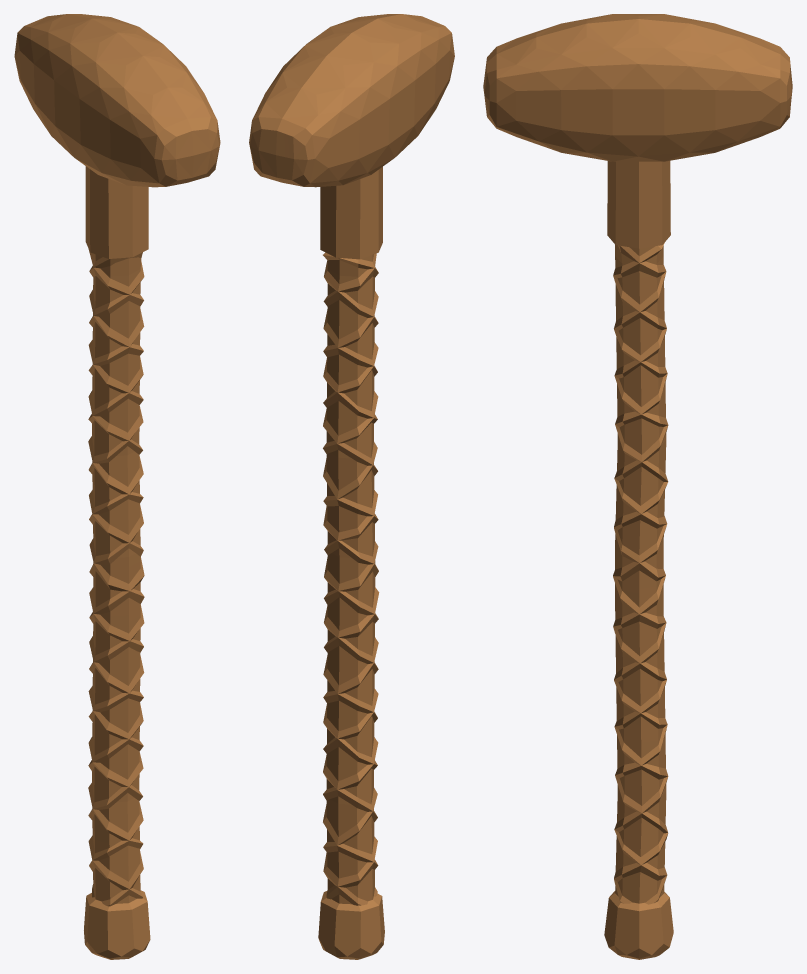
Rendered from Copper_Hammer.fbx.
The picture shows the model from 3 angles, left to right: view 1: azimuth 30°, elevation 25°; view 2: azimuth 150°, elevation 25°; view 3: azimuth 270°, elevation 25°; orthographic projection.
Parts seen in each view (by area): view 1: Copper_Hammer; view 2: Copper_Hammer; view 3: Copper_Hammer.
Boxes of the visible parts, x1=… form: Copper_Hammer: x1=14, y1=14, x2=220, y2=959; Copper_Hammer: x1=249, y1=14, x2=454, y2=959; Copper_Hammer: x1=483, y1=14, x2=792, y2=959.
Bounding box in the file's own units: 0.4947 × 4.29 × 1.29.
